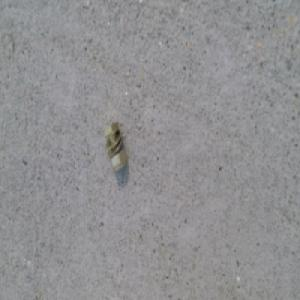BoltNutSet: (102, 123, 126, 172)
